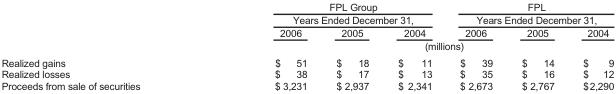table: (0, 1, 613, 91)
table column: (0, 1, 206, 91), (206, 1, 321, 91), (382, 1, 445, 91), (506, 1, 568, 91), (321, 1, 382, 91), (445, 1, 506, 91), (568, 1, 613, 91)
table column header: (0, 1, 613, 54)
table row: (0, 1, 613, 26), (0, 39, 613, 54), (0, 54, 613, 68), (0, 26, 613, 39), (0, 79, 613, 91), (0, 68, 613, 79)
table spanning cell: (206, 39, 613, 54), (206, 1, 445, 26), (445, 1, 613, 26)
